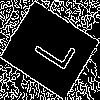L: (25, 24, 77, 72)
